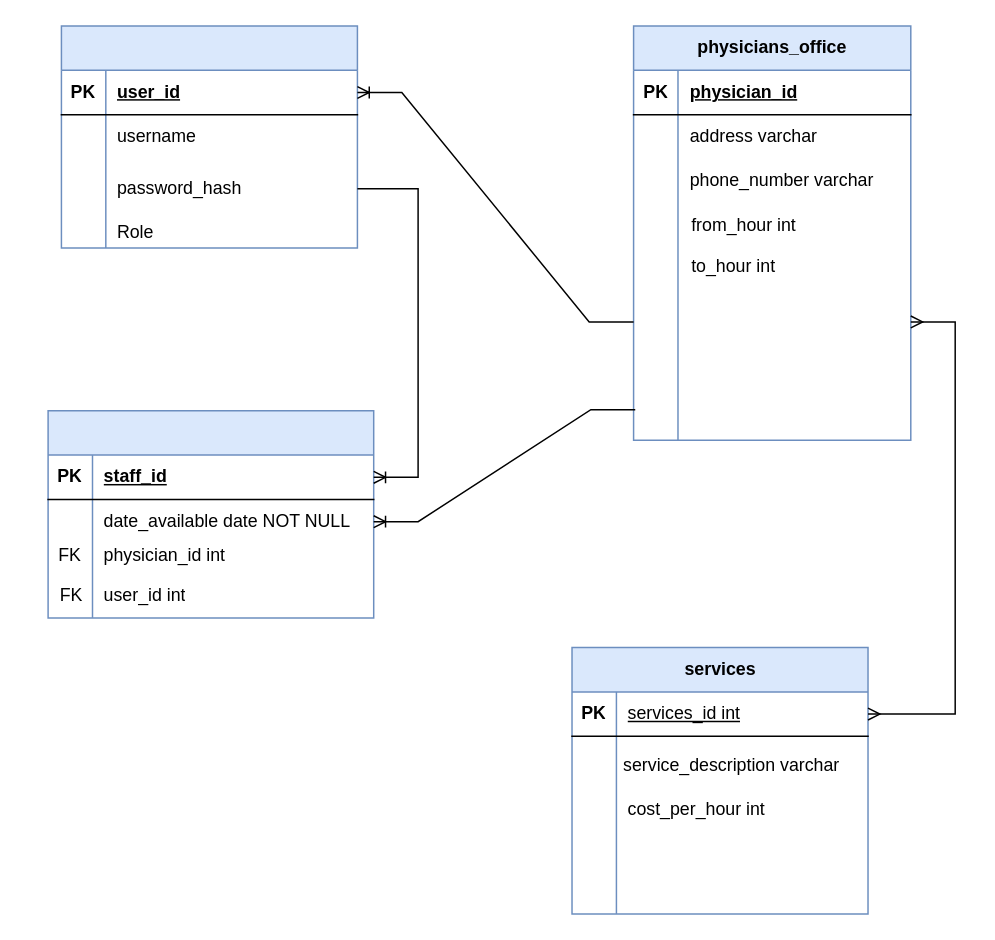
Some shapes in this 995 by 940 pixel diagram are drawn without their labels. Here are the shapes that lost their labels. From the top down, the box of each, then its label:
(60, 24, 357, 248): app_user
(47, 409, 374, 618): staff_availibility
